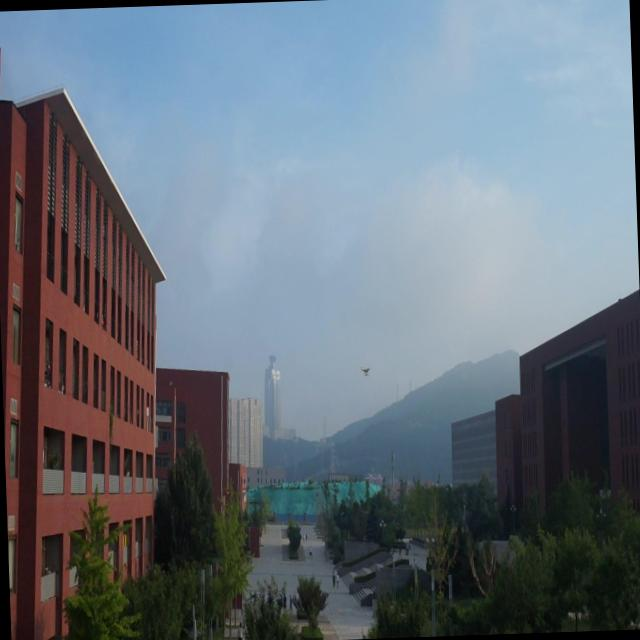drone: (358, 362, 373, 379)
